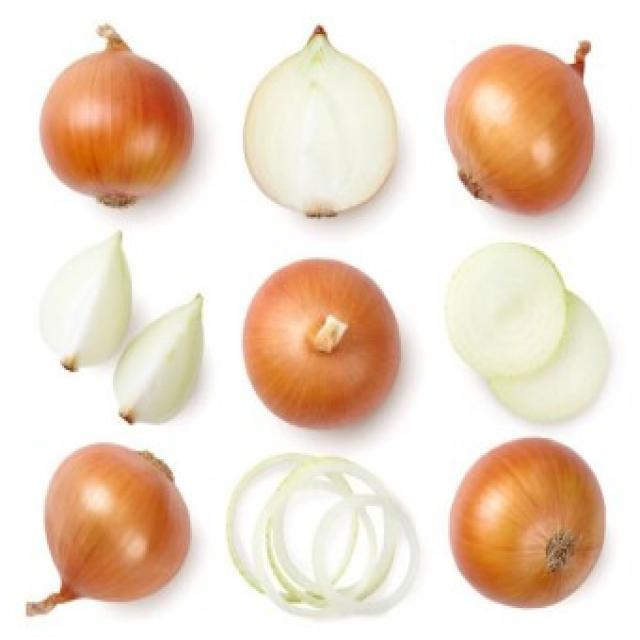Onion: (248, 24, 399, 218), (36, 20, 194, 205), (438, 38, 602, 212), (31, 440, 190, 617), (447, 439, 603, 606), (245, 259, 398, 425), (482, 288, 612, 424), (446, 240, 566, 378), (43, 228, 133, 371), (117, 298, 201, 429)
